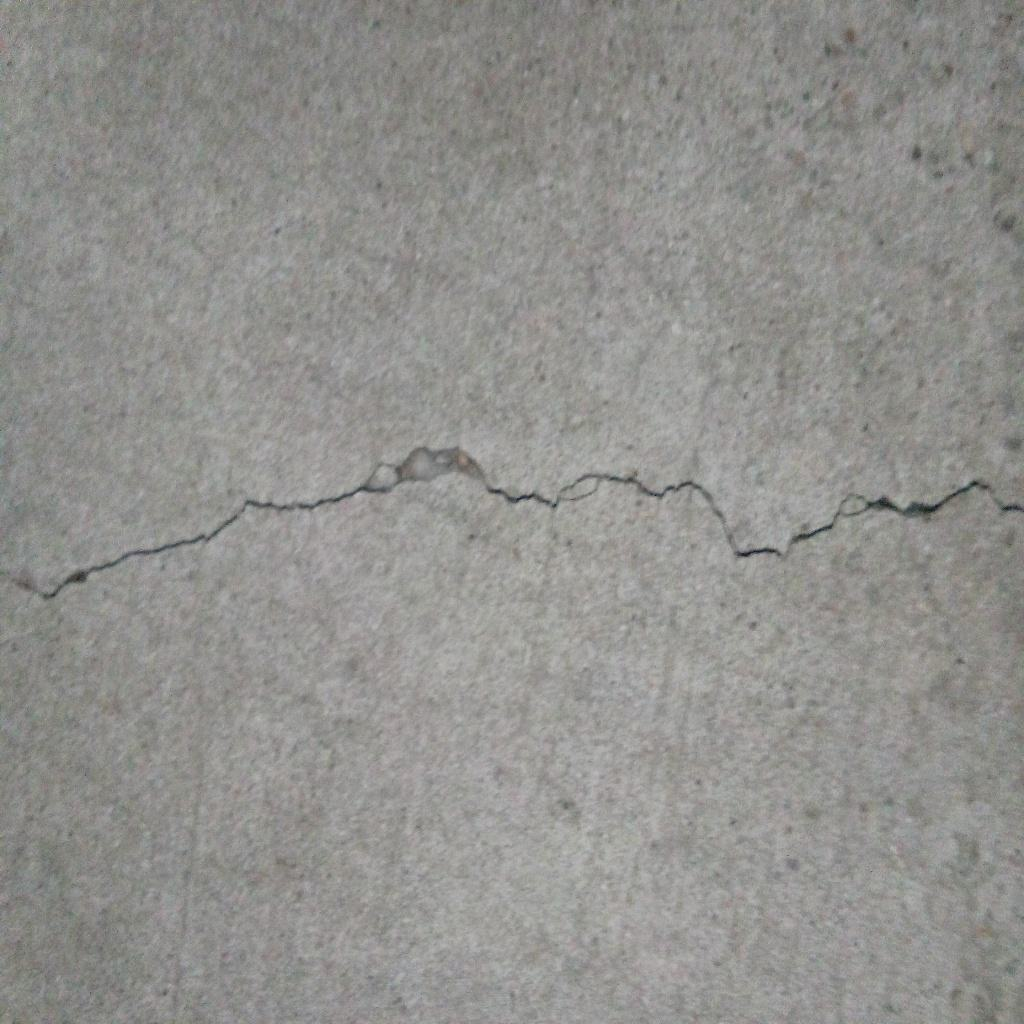Crack: (1, 445, 1024, 600)
